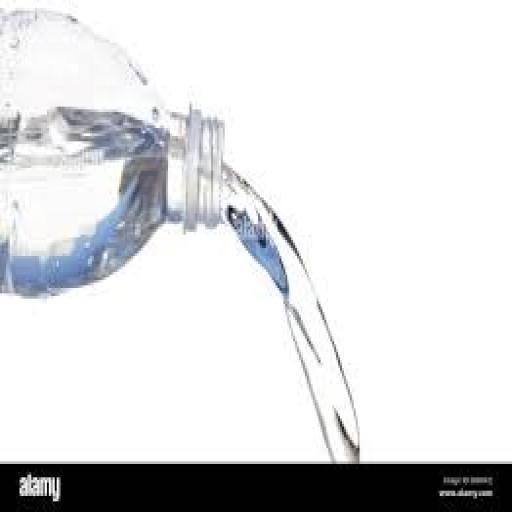bottle: (0, 0, 248, 312)
